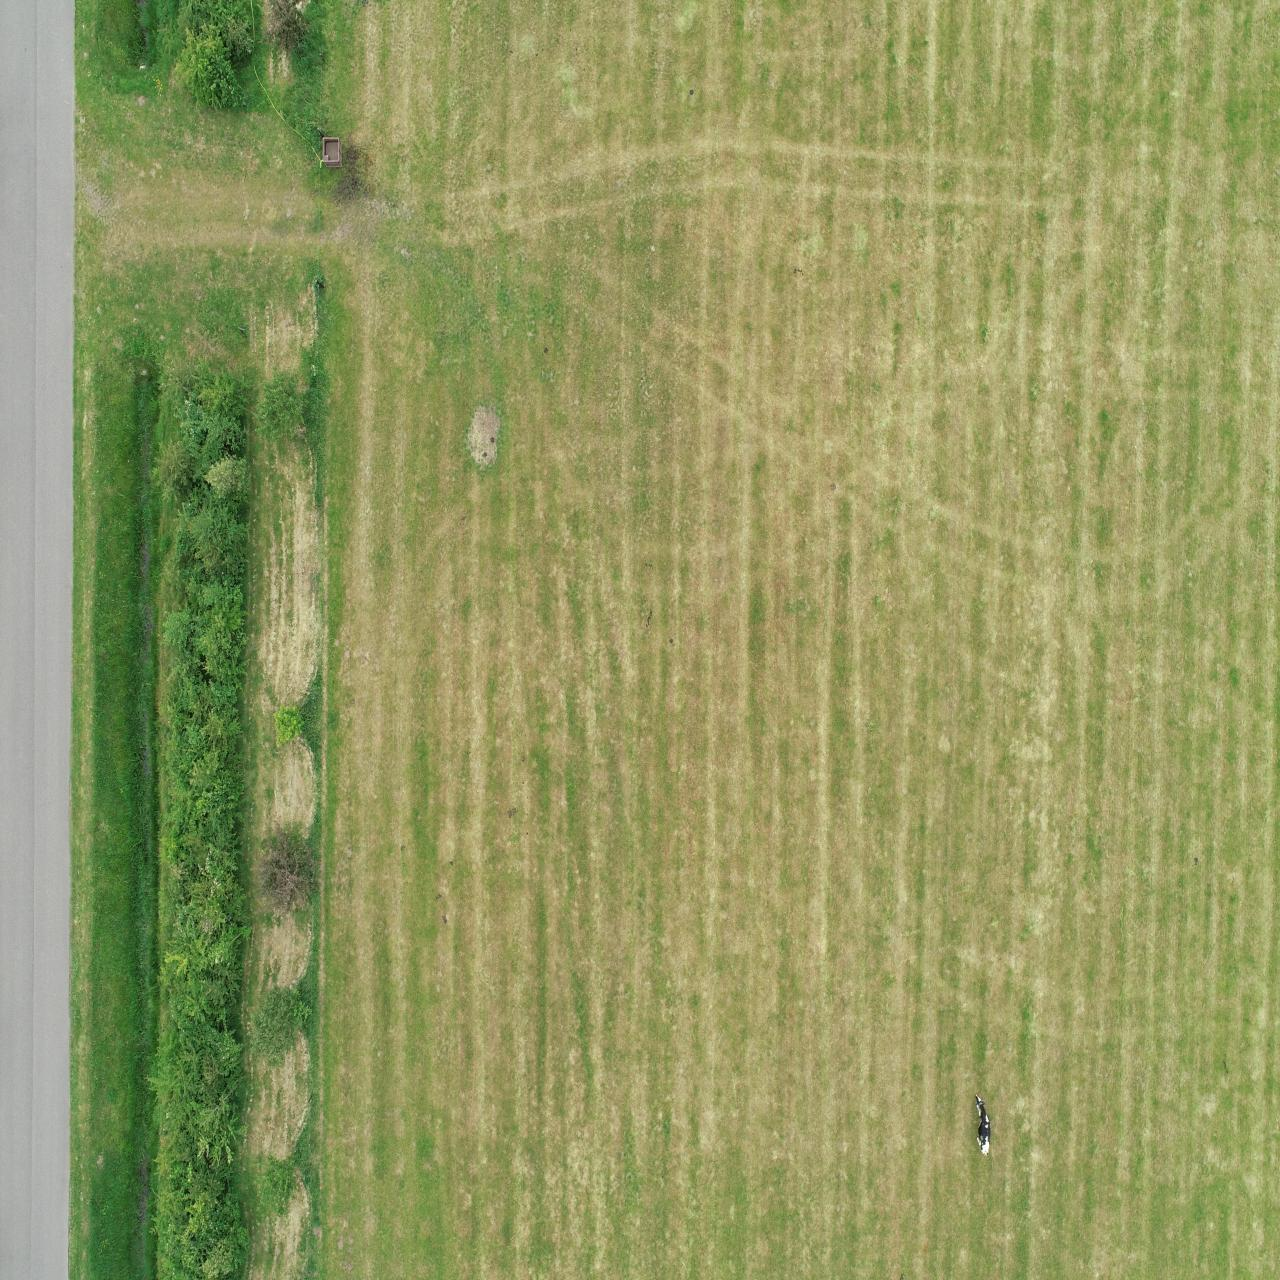cow: (973, 1092, 991, 1158)
